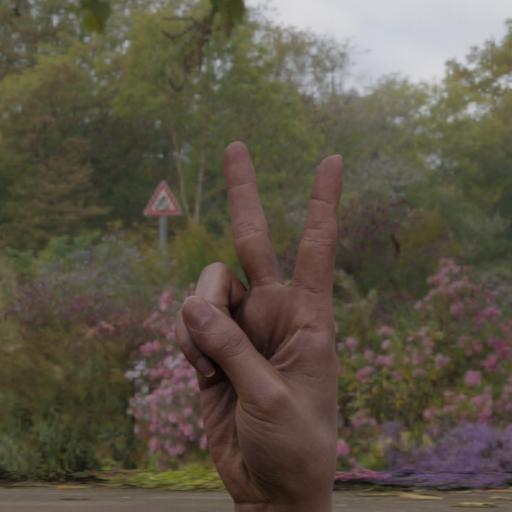V: (167, 128, 354, 500)
